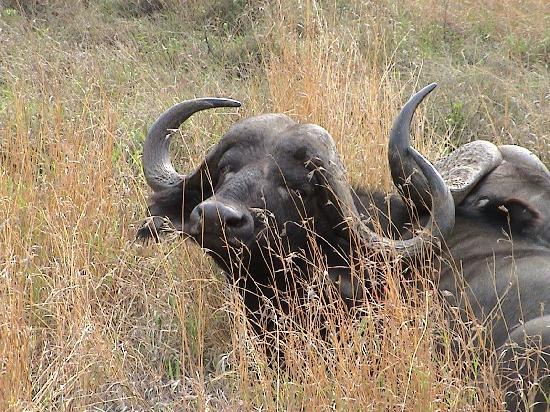Buffalo: (88, 65, 544, 395)
